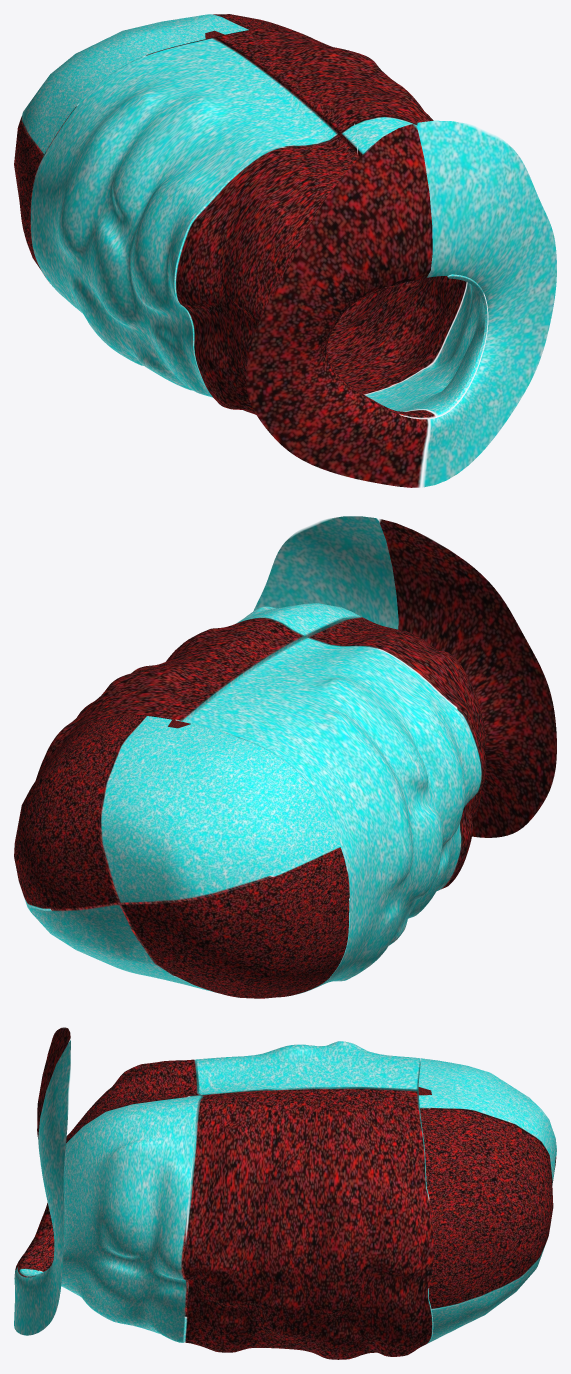
3 views of the same model, one above another, from view 1: azimuth 30°, elevation 25°; view 2: azimuth 150°, elevation 25°; view 3: azimuth 270°, elevation 25° (orthographic). The views are drawn at different scales.
Visible parts, largest first — view 1: SM_VFX_Kuldra_Walls_LOD0; view 2: SM_VFX_Kuldra_Walls_LOD0; view 3: SM_VFX_Kuldra_Walls_LOD0.
Part boxes in pixels (box(x1,y1,x2,y2)): SM_VFX_Kuldra_Walls_LOD0: box(14, 14, 556, 487); SM_VFX_Kuldra_Walls_LOD0: box(14, 516, 556, 998); SM_VFX_Kuldra_Walls_LOD0: box(14, 1027, 556, 1359).
Size of the model in its own units: 32.58 by 29.51 by 49.79.
Materials: 1 (1 with a texture image).
